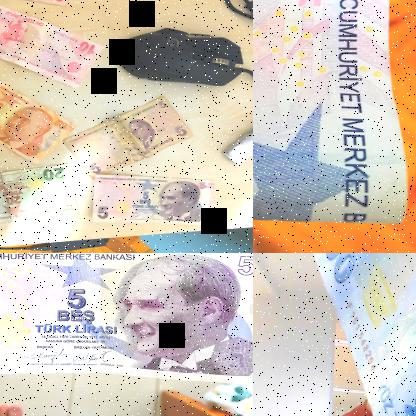5 TL: (0, 0, 108, 90)
